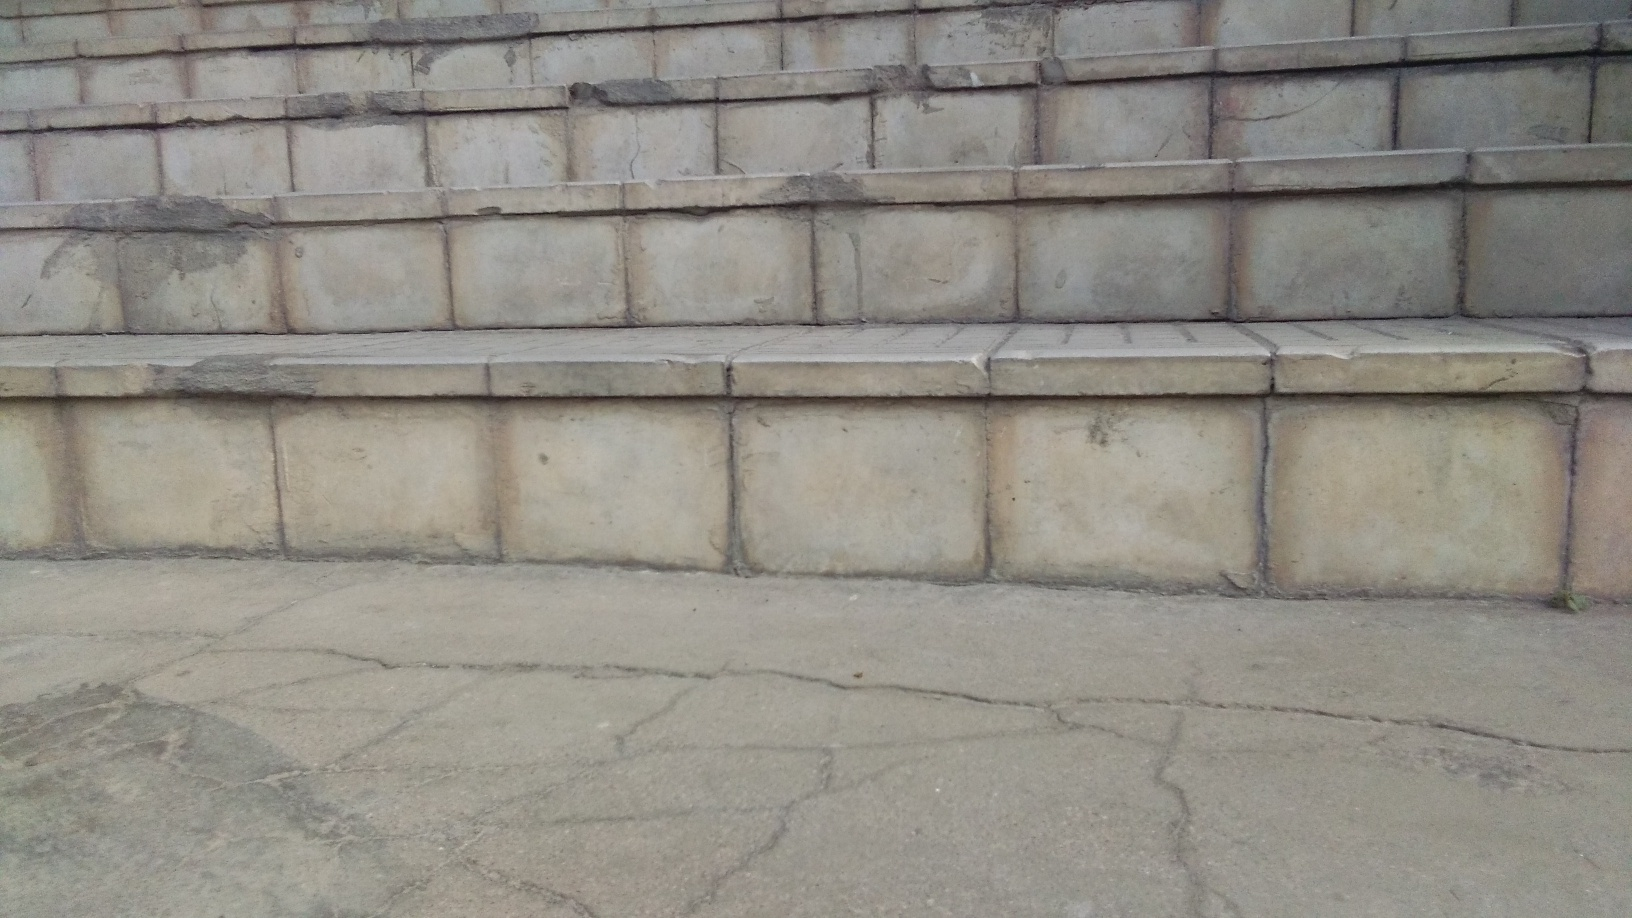stairs_up: (11, 28, 1623, 588)
